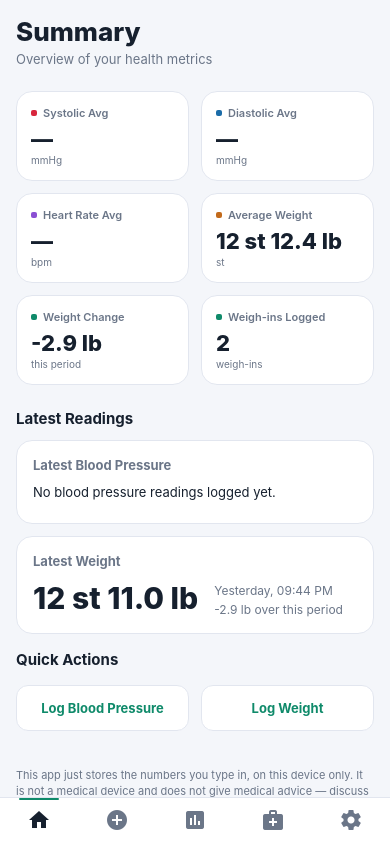
weight trends › charts and lists the weights in the period
The width and height of the screenshot is (390, 844).
Expected: the text "Summary" is shown, top-left (16, 16), bottom-right (141, 47)
Click the tab named "Log" at (117, 820), box top-left (105, 808), bottom-right (129, 832)
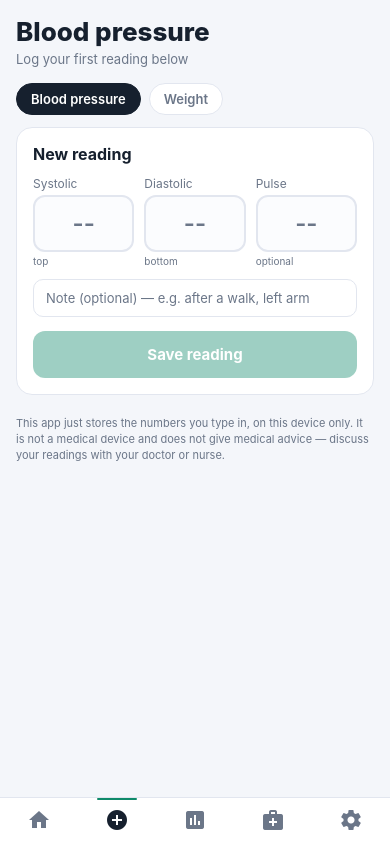
Expected: the text "New reading" is shown, top-left (33, 144), bottom-right (132, 164)
Click the radio button "Weight" at (186, 99), box top-left (149, 83), bottom-right (223, 115)
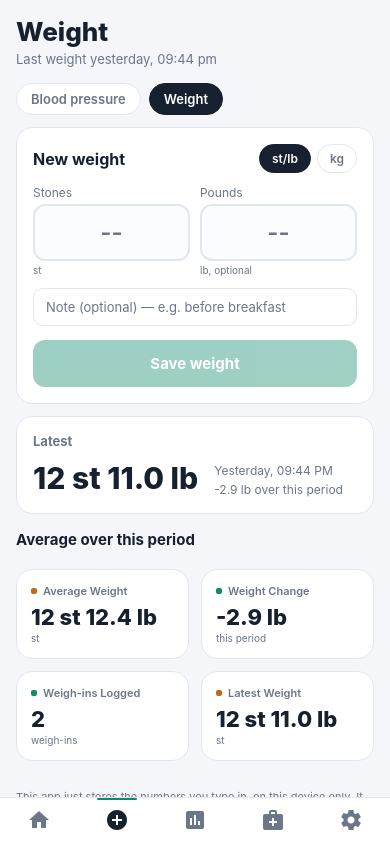
Expected: the text "New weight" is shown, top-left (33, 148), bottom-right (125, 168)
Click the tab named "Trends" at (195, 820), box top-left (183, 808), bottom-right (207, 832)
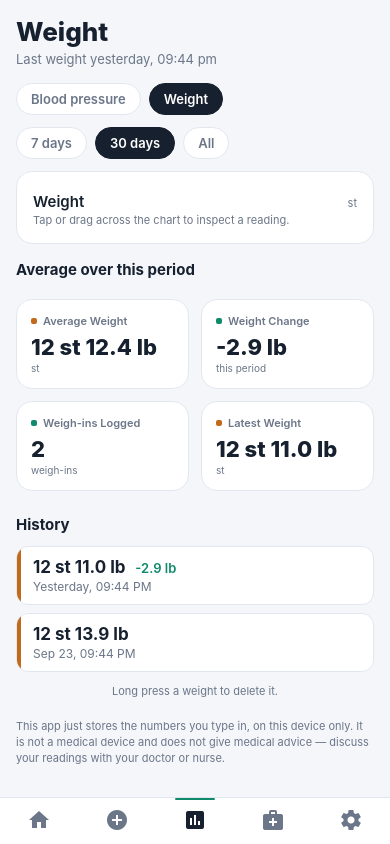
Expected: the text "History" is shown, top-left (16, 515), bottom-right (70, 534)
Expected: the text "12 st 11.0 lb" is shown, top-left (216, 436), bottom-right (337, 462)
Expected: the text "12 st 13.9 lb" is shown, top-left (33, 624), bottom-right (129, 644)
